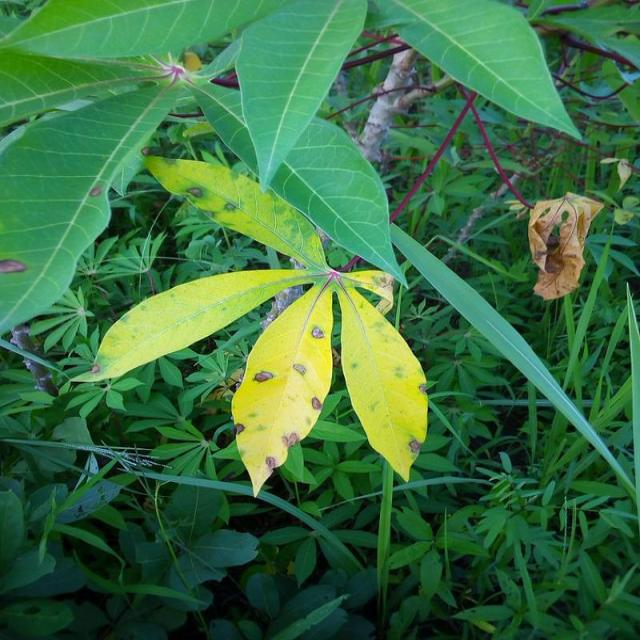cassava leaf: (70, 148, 429, 496), (368, 0, 582, 143), (234, 0, 367, 193), (230, 275, 334, 498), (336, 279, 429, 482), (526, 190, 604, 300)
